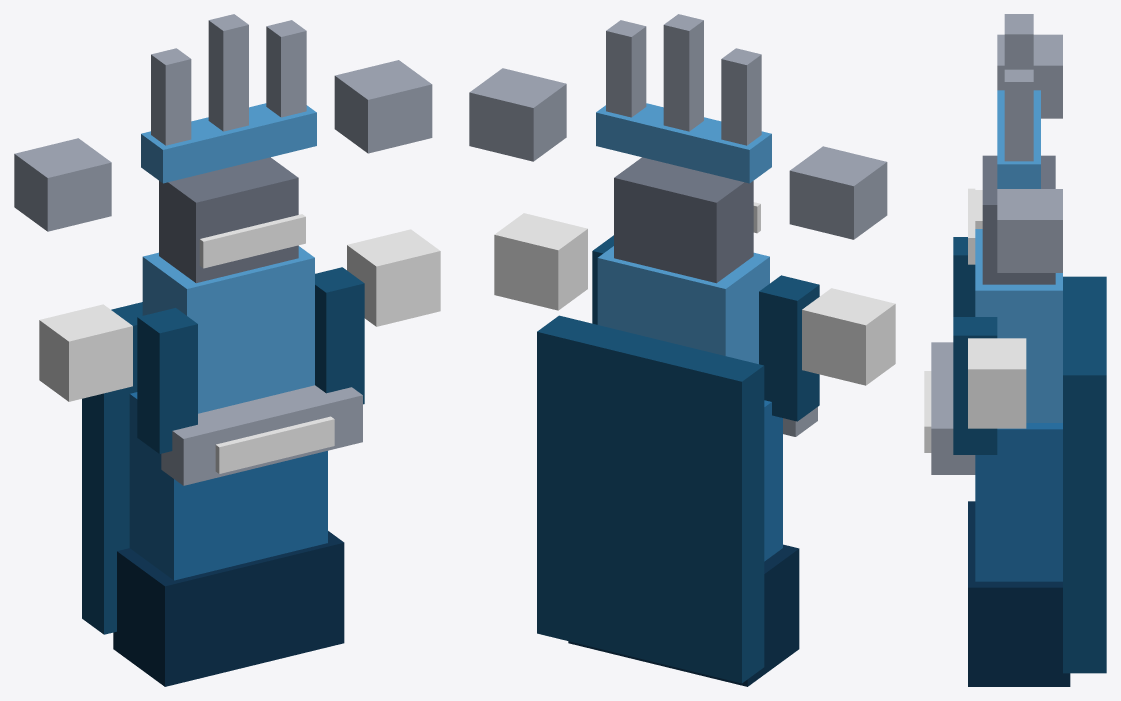
File: stormcaller.gltf
3 views of the same model, side by side, from view 1: azimuth 30°, elevation 25°; view 2: azimuth 150°, elevation 25°; view 3: azimuth 270°, elevation 25° (orthographic).
Visible parts, largest first — view 1: 00_robe_hem, 02_robe, 05_torso, 10_head, 01_shroud, 03_control_slab, 06_left_arm_down_to_the_slab, 08_drone_near_left, 14_antenna_bar, 13_drone_far_right, 12_drone_far_left, 09_drone_near_right (+6 smaller); view 2: 01_shroud, 10_head, 05_torso, 08_drone_near_left, 09_drone_near_right, 14_antenna_bar, 12_drone_far_left, 13_drone_far_right, 06_left_arm_down_to_the_slab, 00_robe_hem, 17_antenna_rod_centre, 15_antenna_rod_left (+2 smaller); view 3: 01_shroud, 02_robe, 00_robe_hem, 05_torso, 13_drone_far_right, 09_drone_near_right, 07_right_arm_down_to_the_slab, 03_control_slab, 10_head, 16_antenna_rod_right, 12_drone_far_left, 14_antenna_bar (+5 smaller).
Part boxes in pixels (box(x1,y1,x2,y2)): 00_robe_hem: box(113, 531, 344, 686); 02_robe: box(129, 392, 327, 580); 05_torso: box(142, 246, 314, 413); 10_head: box(159, 157, 298, 283); 01_shroud: box(82, 302, 142, 634); 03_control_slab: box(161, 385, 362, 485); 06_left_arm_down_to_the_slab: box(137, 308, 197, 453); 08_drone_near_left: box(39, 304, 132, 401); 14_antenna_bar: box(141, 103, 316, 183); 13_drone_far_right: box(334, 60, 432, 153); 12_drone_far_left: box(14, 138, 111, 231); 09_drone_near_right: box(347, 229, 440, 326); 01_shroud: box(537, 315, 764, 683); 10_head: box(614, 157, 753, 283); 05_torso: box(597, 246, 769, 364); 08_drone_near_left: box(802, 288, 895, 385); 09_drone_near_right: box(494, 213, 587, 310); 14_antenna_bar: box(596, 103, 771, 183); 12_drone_far_left: box(789, 146, 887, 239); 13_drone_far_right: box(469, 68, 566, 161); 06_left_arm_down_to_the_slab: box(759, 275, 819, 421); 00_robe_hem: box(568, 544, 799, 686); 17_antenna_rod_centre: box(663, 14, 703, 131); 15_antenna_rod_left: box(721, 48, 761, 145); 01_shroud: box(1063, 276, 1106, 673); 02_robe: box(975, 423, 1062, 581); 00_robe_hem: box(968, 501, 1070, 686); 05_torso: box(975, 229, 1062, 422); 13_drone_far_right: box(997, 189, 1062, 272); 09_drone_near_right: box(968, 338, 1026, 428); 07_right_arm_down_to_the_slab: box(953, 317, 997, 454); 03_control_slab: box(931, 342, 975, 474); 10_head: box(982, 155, 1055, 284); 16_antenna_rod_right: box(1004, 69, 1033, 161); 12_drone_far_left: box(997, 34, 1062, 118); 14_antenna_bar: box(997, 90, 1040, 188).
Bounding box in the file's own units: 0.9375 × 1.45 × 0.3906.
